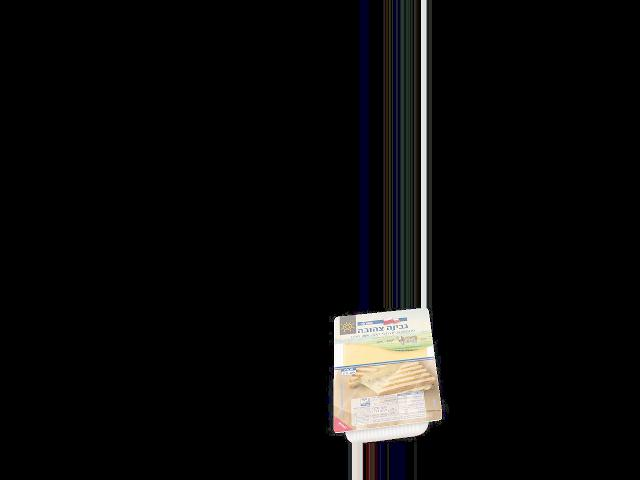cheese: (338, 309, 439, 443)
